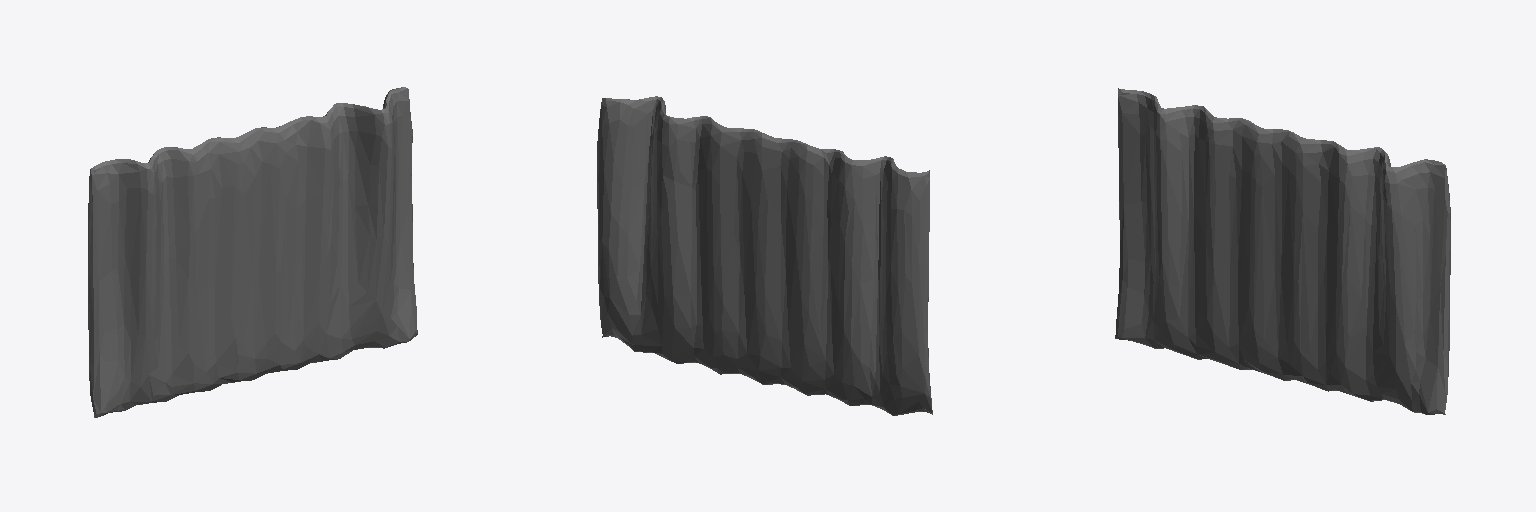
The model's file is curtain.obj.
3 renders of one model, left to right at view 1: azimuth 30°, elevation 25°; view 2: azimuth 150°, elevation 25°; view 3: azimuth 330°, elevation 25°, orthographic.
Parts seen in each view (by area): view 1: sponza_325_sponza_325_fabric_c; view 2: sponza_325_sponza_325_fabric_c; view 3: sponza_325_sponza_325_fabric_c.
Boxes of the visible parts, box(x1,y1,x2,y2) form: sponza_325_sponza_325_fabric_c: box(88, 87, 417, 417); sponza_325_sponza_325_fabric_c: box(597, 96, 932, 415); sponza_325_sponza_325_fabric_c: box(1115, 88, 1450, 414).
Size of the model in its own units: 21.59 by 15.97 by 2.83.